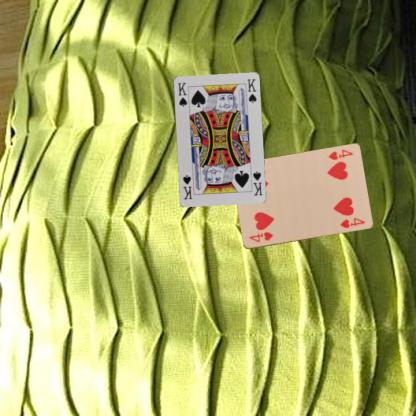4h: (246, 229, 274, 244), (326, 147, 354, 162)
Ks: (250, 168, 263, 197), (175, 80, 188, 108)
